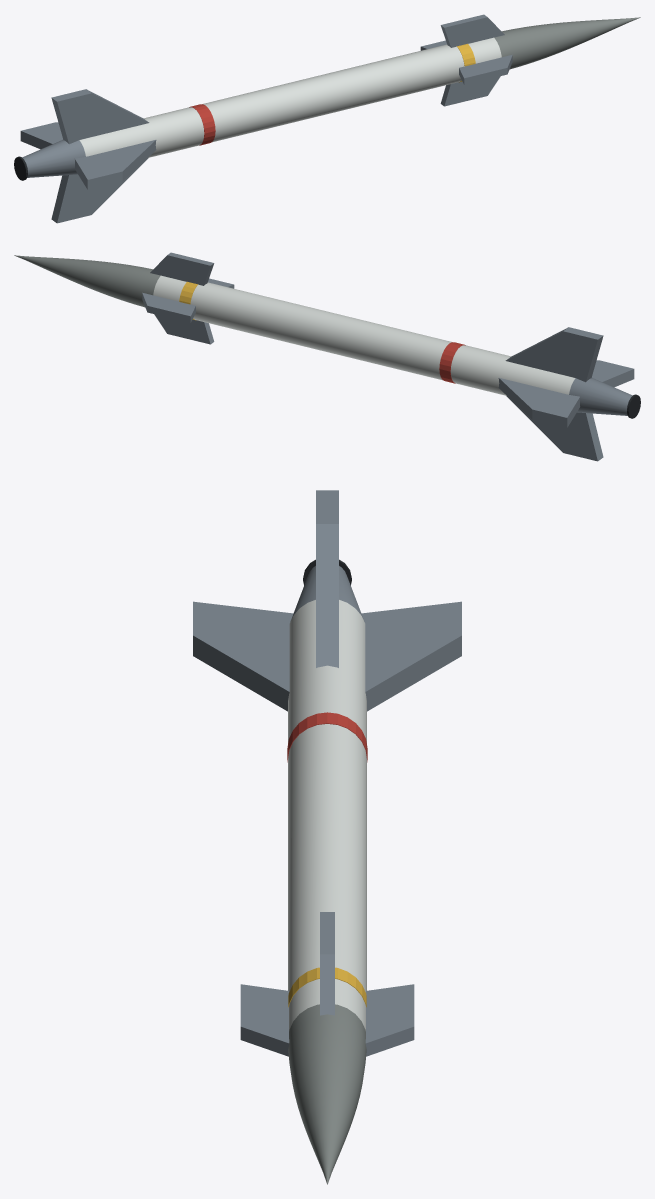
Rendered from pla_hhq10.glb.
3 views of the same model, one above another, from view 1: azimuth 30°, elevation 25°; view 2: azimuth 150°, elevation 25°; view 3: azimuth 270°, elevation 25° (orthographic). The views are drawn at different scales.
Parts seen in each view (by area): view 1: missile_body, titanium, seeker, hazard_red; view 2: missile_body, titanium, seeker, hazard_red; view 3: titanium, missile_body, seeker, hazard_red.
Boxes of the visible parts, box(x1,y1,x2,y2) form: missile_body: box(79, 37, 501, 157); titanium: box(20, 14, 512, 223); seeker: box(494, 17, 640, 69); hazard_red: box(189, 104, 215, 145); missile_body: box(153, 275, 575, 395); titanium: box(142, 252, 634, 461); seeker: box(14, 255, 160, 307); hazard_red: box(439, 342, 465, 383); titanium: box(193, 490, 461, 1056); missile_body: box(288, 600, 366, 1030); seeker: box(288, 1004, 366, 1184); hazard_red: box(287, 712, 367, 762).
Size of the model in its own units: 10 by 1.87 by 1.87.
